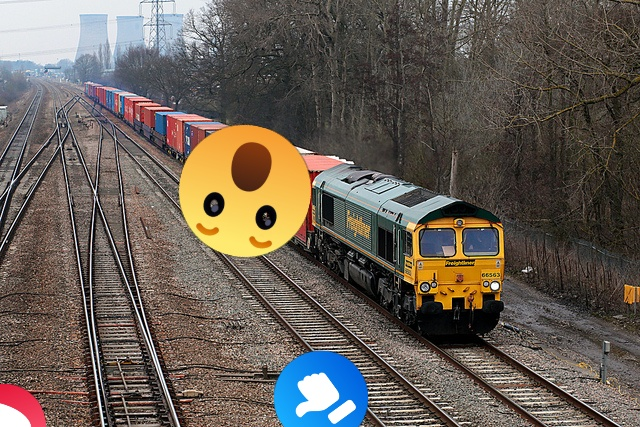like: (274, 351, 368, 427)
love: (0, 384, 46, 427)
wow: (179, 125, 311, 257)
